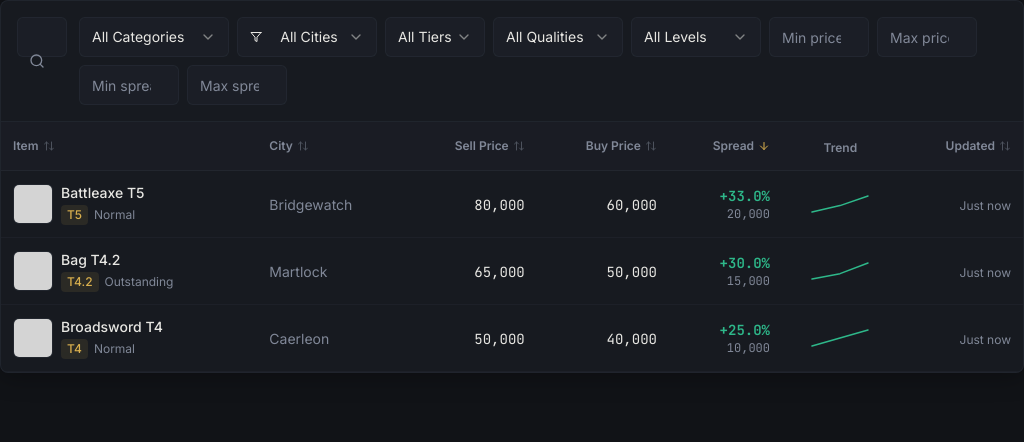
Test case: PriceTable — filtros de faixa (AC1, AC2) › exibe feedback quando min price > max price
In the number field with placeholder "Min price": point(819, 37) 769,17 -> 869,57, type "90000"
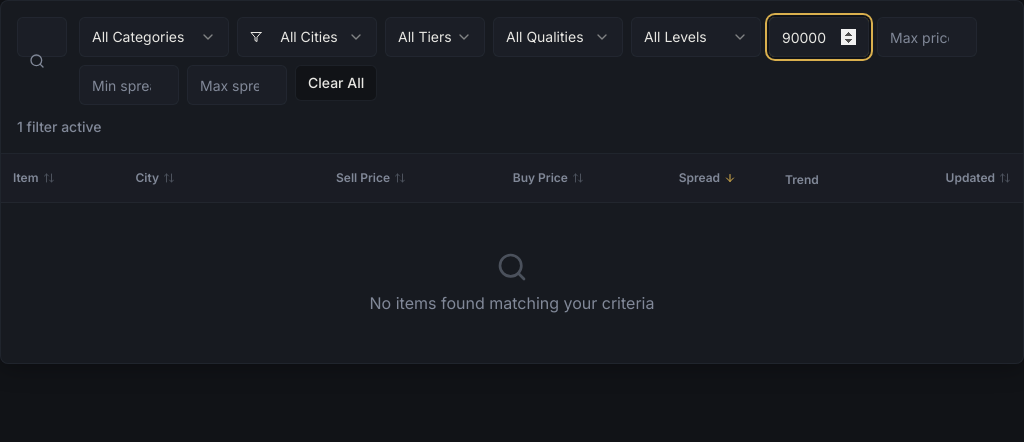
In the number field with placeholder "Max price": point(927, 37) 877,17 -> 977,57, type "50000"
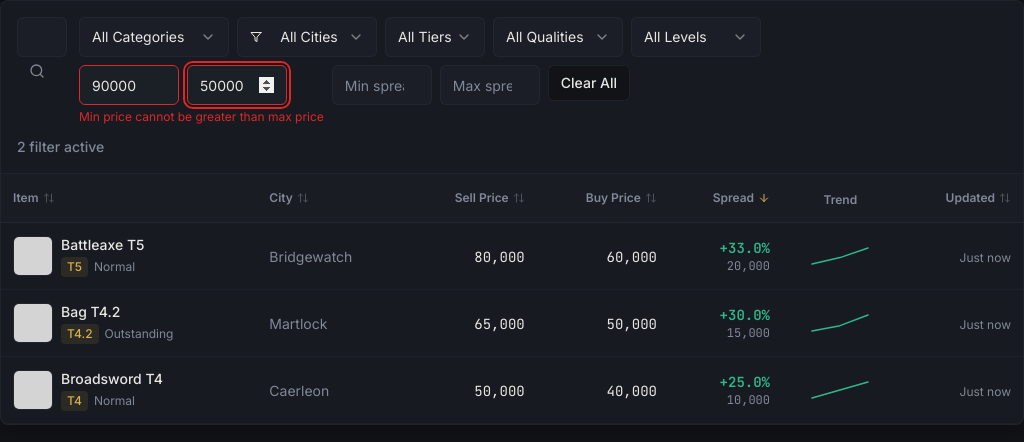
Check: the text "Min price cannot be greater than max price" is shown, box 79,109 -> 324,125
